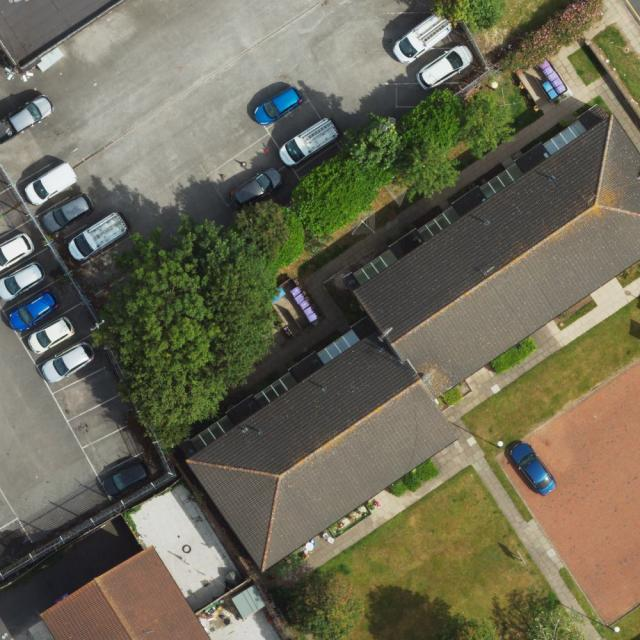roof: (176, 103, 640, 573), (41, 546, 214, 640), (1, 0, 125, 73)
skylight: (541, 117, 591, 158), (414, 203, 462, 244), (352, 248, 400, 287), (252, 372, 299, 411), (191, 415, 236, 453), (483, 161, 525, 201), (318, 329, 361, 366)
